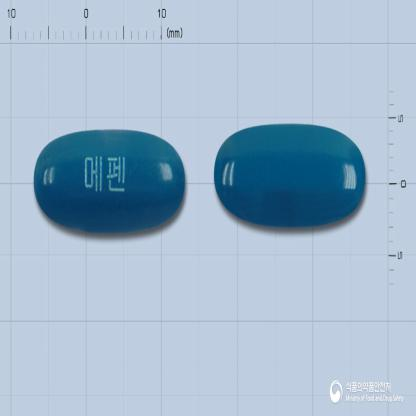pill: (32, 128, 186, 236), (212, 120, 367, 227)
